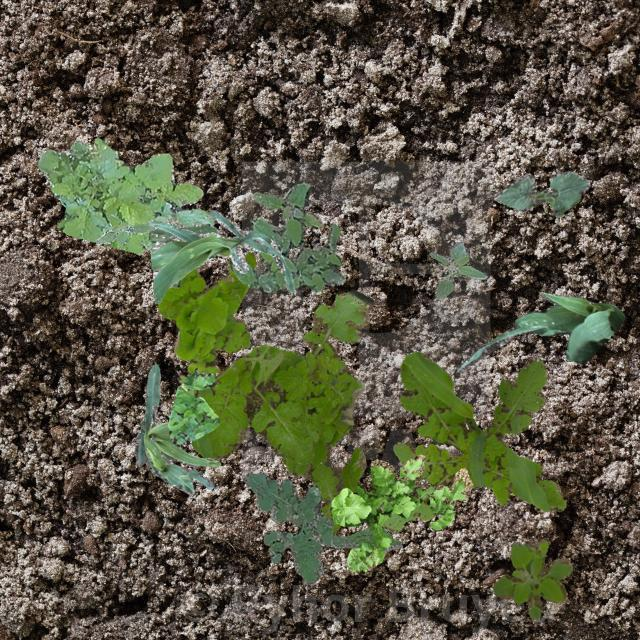crop: (146, 208, 294, 302), (456, 290, 624, 372), (133, 362, 220, 488), (492, 170, 590, 217), (146, 436, 193, 494)
weed: (190, 288, 374, 534), (378, 350, 564, 532), (36, 136, 214, 252), (244, 472, 402, 582), (329, 454, 472, 574), (156, 250, 255, 396), (228, 182, 344, 292), (492, 538, 572, 618), (166, 367, 218, 442), (428, 240, 486, 298), (170, 224, 218, 286), (94, 214, 156, 244)
